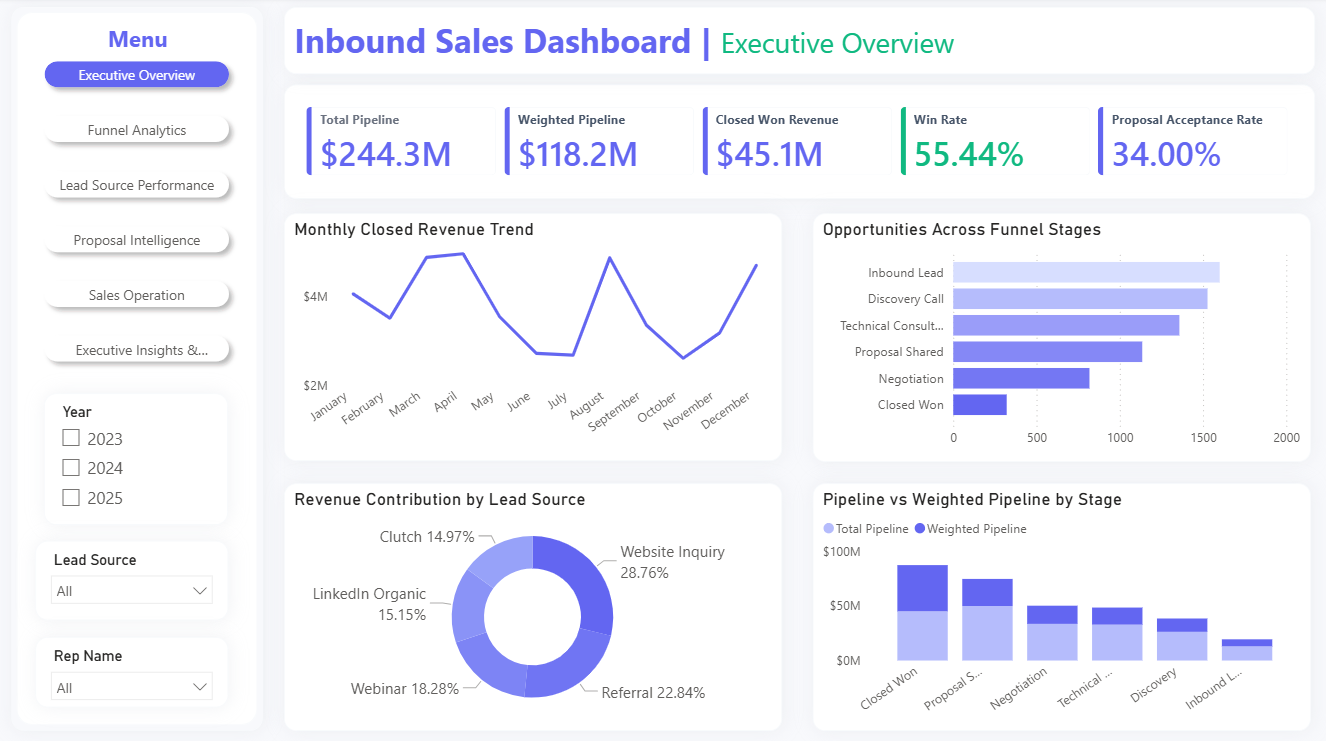

The page's visual inventory and layout, read from the dashboard file:
{"tool":"powerbi","page":{"name":"Executive Overview","canvas":[1280,720],"ordinal":0},"visuals":[{"type":"cardVisual","fields":{"Data":["measure_table.Total Pipeline","measure_table.Weighted Pipeline","measure_table.Closed Won Revenue","measure_table.Win Rate","measure_table.Proposal Acceptance Rate"]},"box":[275.6,85,995,110],"z":0},{"type":"shape","box":[11.5,10.1,242.4,698.3],"z":1000},{"type":"lineChart","title":"Monthly Closed Revenue Trend","fields":{"Category":["gold dim_date.date_value.Variation.Date Hierarchy.Month"],"Y":["measure_table.Closed Won Revenue"]},"box":[275.6,209.2,480.4,239.5],"z":2000},{"type":"barChart","title":"Opportunities Across Funnel Stages","fields":{"Category":["gold dim_pipeline_stage.pipeline_stage"],"Y":["measure_table.Funnel Value"]},"box":[784.9,209.2,480.4,240],"z":3000},{"type":"donutChart","title":"Revenue Contribution by Lead Source","fields":{"Y":["measure_table.Closed Won Revenue"],"Category":["gold fact_pipeline.lead_source"]},"box":[275.6,468.9,480.4,239.5],"z":4000},{"type":"columnChart","title":"Pipeline vs Weighted Pipeline by Stage","fields":{"Y":["measure_table.Total Pipeline","measure_table.Weighted Pipeline"],"Category":["funnel_stage.funnel_stage"]},"box":[784.9,468.9,480.4,239.5],"z":5000},{"type":"pageNavigator","box":[34.6,53.4,196.2,311.6],"z":6000},{"type":"slicer","fields":{"Values":["gold dim_date.date_value.Variation.Date Hierarchy.Year"]},"box":[43.3,382.3,177.5,127],"z":7000},{"type":"slicer","fields":{"Values":["gold dim_lead_source.lead_source"]},"box":[34.6,525.2,186.1,76.5],"z":8000},{"type":"slicer","fields":{"Values":["gold dim_representative.representative_name"]},"box":[34.6,617.5,186.1,67.8],"z":9000},{"type":"textbox","box":[275.6,10.1,995,65],"z":10000},{"type":"textbox","box":[100,20,90,45],"z":11000}]}

Visuals, with their boxes in screenshot pixels (x1, y1, x2, y2), scaled from the page's 1280x720 canvas onto the 1326x741 screenshot:
cardVisual - measure_table.Total Pipeline x measure_table.Weighted Pipeline: [x1=286, y1=87, x2=1316, y2=201]
shape: [x1=12, y1=10, x2=263, y2=729]
"Monthly Closed Revenue Trend" lineChart: [x1=286, y1=215, x2=783, y2=462]
"Opportunities Across Funnel Stages" barChart: [x1=813, y1=215, x2=1311, y2=462]
"Revenue Contribution by Lead Source" donutChart: [x1=286, y1=483, x2=783, y2=729]
"Pipeline vs Weighted Pipeline by Stage" columnChart: [x1=813, y1=483, x2=1311, y2=729]
pageNavigator: [x1=36, y1=55, x2=239, y2=376]
slicer - gold dim_date.date_value.Variation.Date Hierarchy.Year: [x1=45, y1=393, x2=229, y2=524]
slicer - gold dim_lead_source.lead_source: [x1=36, y1=541, x2=229, y2=619]
slicer - gold dim_representative.representative_name: [x1=36, y1=636, x2=229, y2=705]
textbox: [x1=286, y1=10, x2=1316, y2=77]
textbox: [x1=104, y1=21, x2=197, y2=67]
